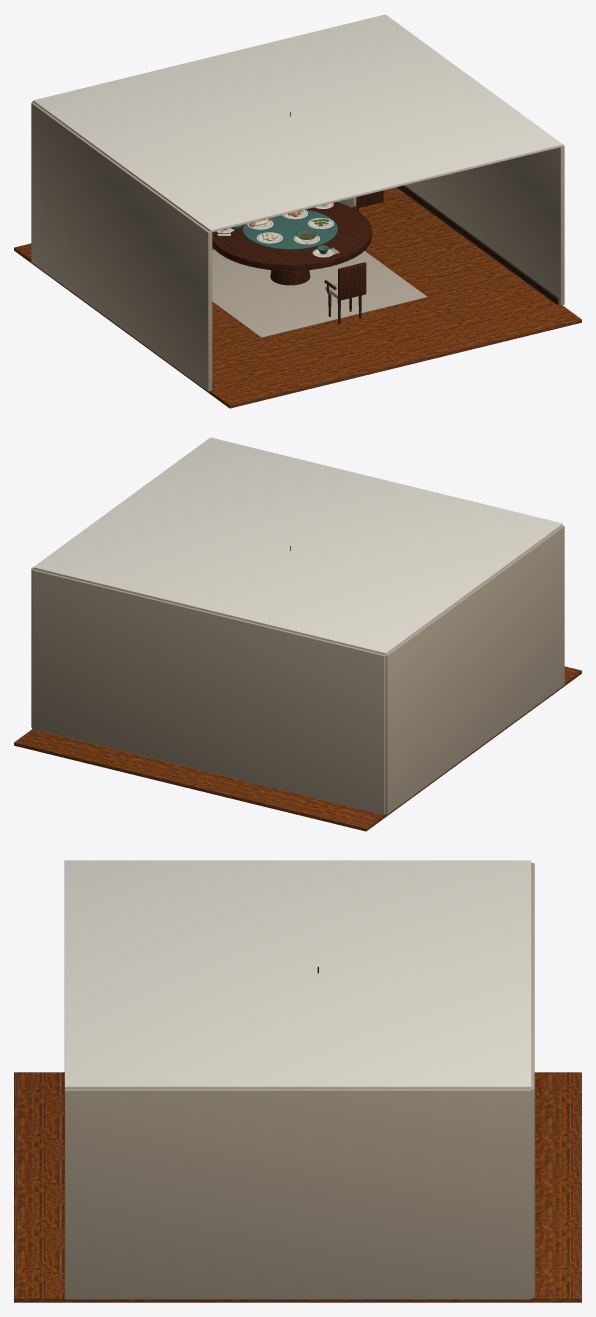
Rendered from room-family.glb.
3 renders of one model, top to bottom at view 1: azimuth 30°, elevation 25°; view 2: azimuth 150°, elevation 25°; view 3: azimuth 270°, elevation 25°, orthographic. The views are drawn at different scales.
Visible parts, largest first — view 1: Ceiling, Surface sc:oat, Floor, Surface wood_table_001.005, Surface sc:ceramic.006, Surface sc:woodEdge.003, Surface wood_table_001.006, Surface sc:porcelain.006, Surface sc:woodEdge.004, Surface wood_table_001.004; view 2: Surface sc:oat, Ceiling, Floor; view 3: Ceiling, Surface sc:oat, Floor.
Boxes of the visible parts, x1,y1,x2,y2 form: Ceiling: [33, 14, 562, 232]; Surface sc:oat: [31, 101, 564, 391]; Floor: [14, 187, 581, 408]; Surface wood_table_001.005: [212, 202, 371, 270]; Surface sc:ceramic.006: [242, 210, 337, 249]; Surface sc:woodEdge.003: [212, 185, 558, 388]; Surface wood_table_001.006: [338, 190, 383, 300]; Surface sc:porcelain.006: [216, 203, 333, 257]; Surface sc:woodEdge.004: [212, 233, 371, 323]; Surface wood_table_001.004: [270, 270, 310, 285]; Surface sc:oat: [31, 525, 564, 814]; Ceiling: [33, 437, 562, 654]; Floor: [14, 666, 581, 831]; Ceiling: [64, 860, 531, 1088]; Surface sc:oat: [64, 863, 534, 1299]; Floor: [14, 1072, 581, 1302].
Size of the model in its own units: 13.36 by 6.06 by 14.
48 materials, 5 textured.
